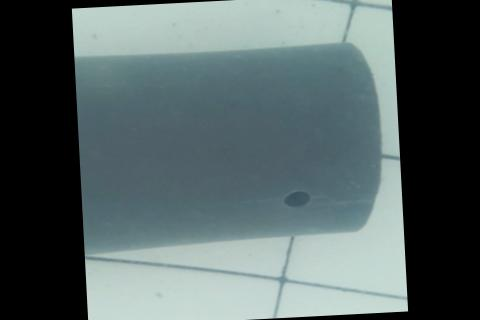kebocoran: (283, 189, 312, 208)
